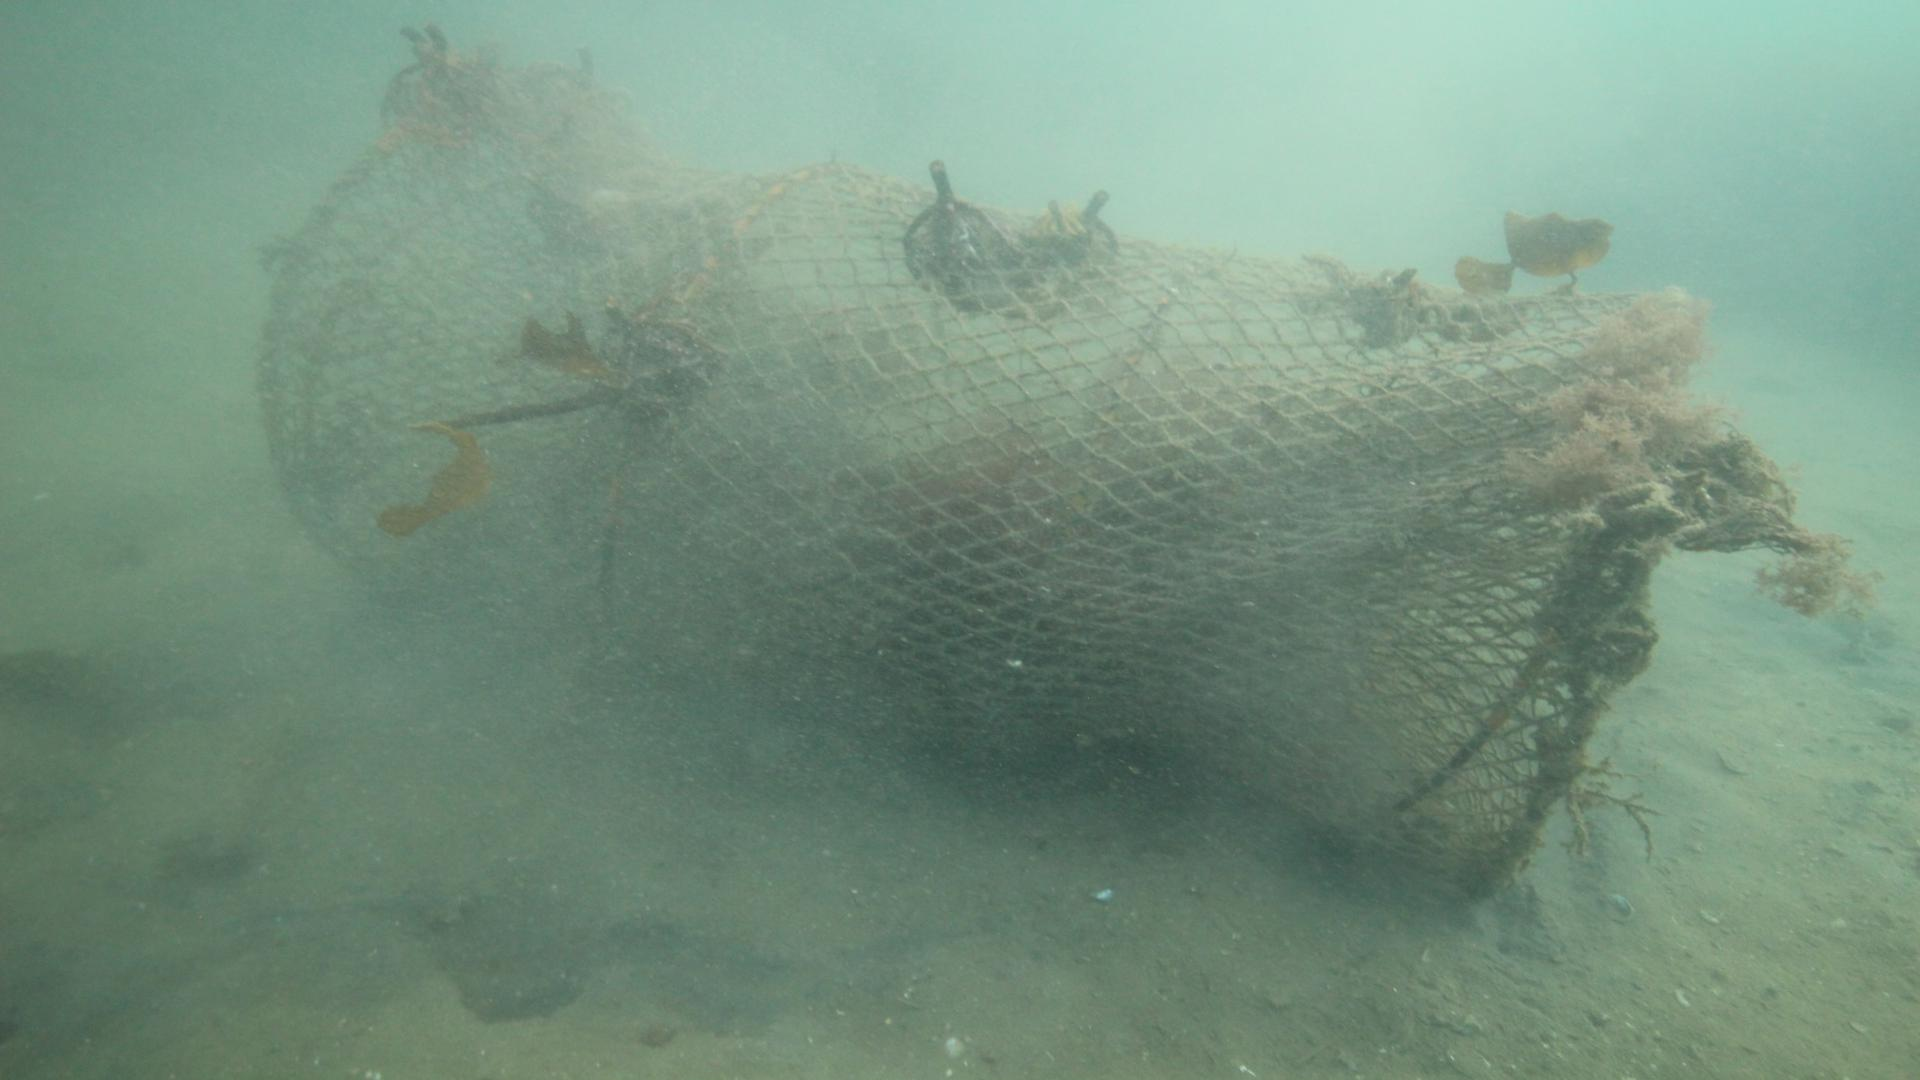spring fish trap: (257, 63, 1695, 895)
